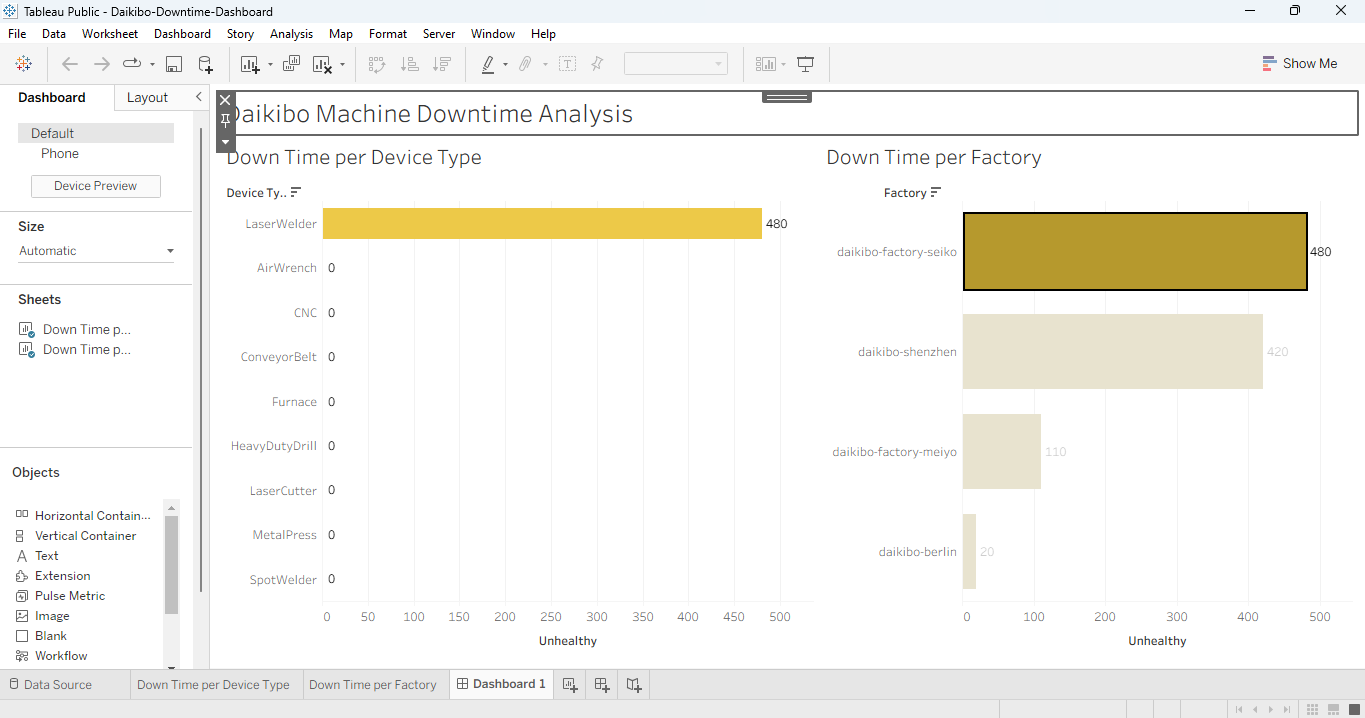

This screenshot's page, from the dashboard's own definition file:
{"tool":"tableau","page":{"name":"Dashboard 1","canvas":[1000,1000],"units":"permille","ordinal":0},"visuals":[{"type":"title","box":[6.9,13.7,986.1,71.9]},{"type":"worksheet","title":"Down Time per Device Type","mark":"Automatic","rows":["deviceType"],"cols":["Calculation_0899451774443521"],"box":[6.9,85.6,519.2,900.7]},{"type":"worksheet","title":"Down Time per Factory","mark":"Automatic","rows":["factory"],"cols":["Calculation_0899451774443521"],"box":[526.2,85.6,466.9,900.7]}]}

Visuals, with their boxes on the dashboard's canvas, which has no fixed pixel size, in thousandths of its width and height (x1, y1, x2, y2). These are canvas units, not pixel positions in the 1365x718 screenshot, which may show the page scaled, cropped or inside an application window:
title: l=7, t=14, r=993, b=86
"Down Time per Device Type" worksheet: l=7, t=86, r=526, b=986
"Down Time per Factory" worksheet: l=526, t=86, r=993, b=986
